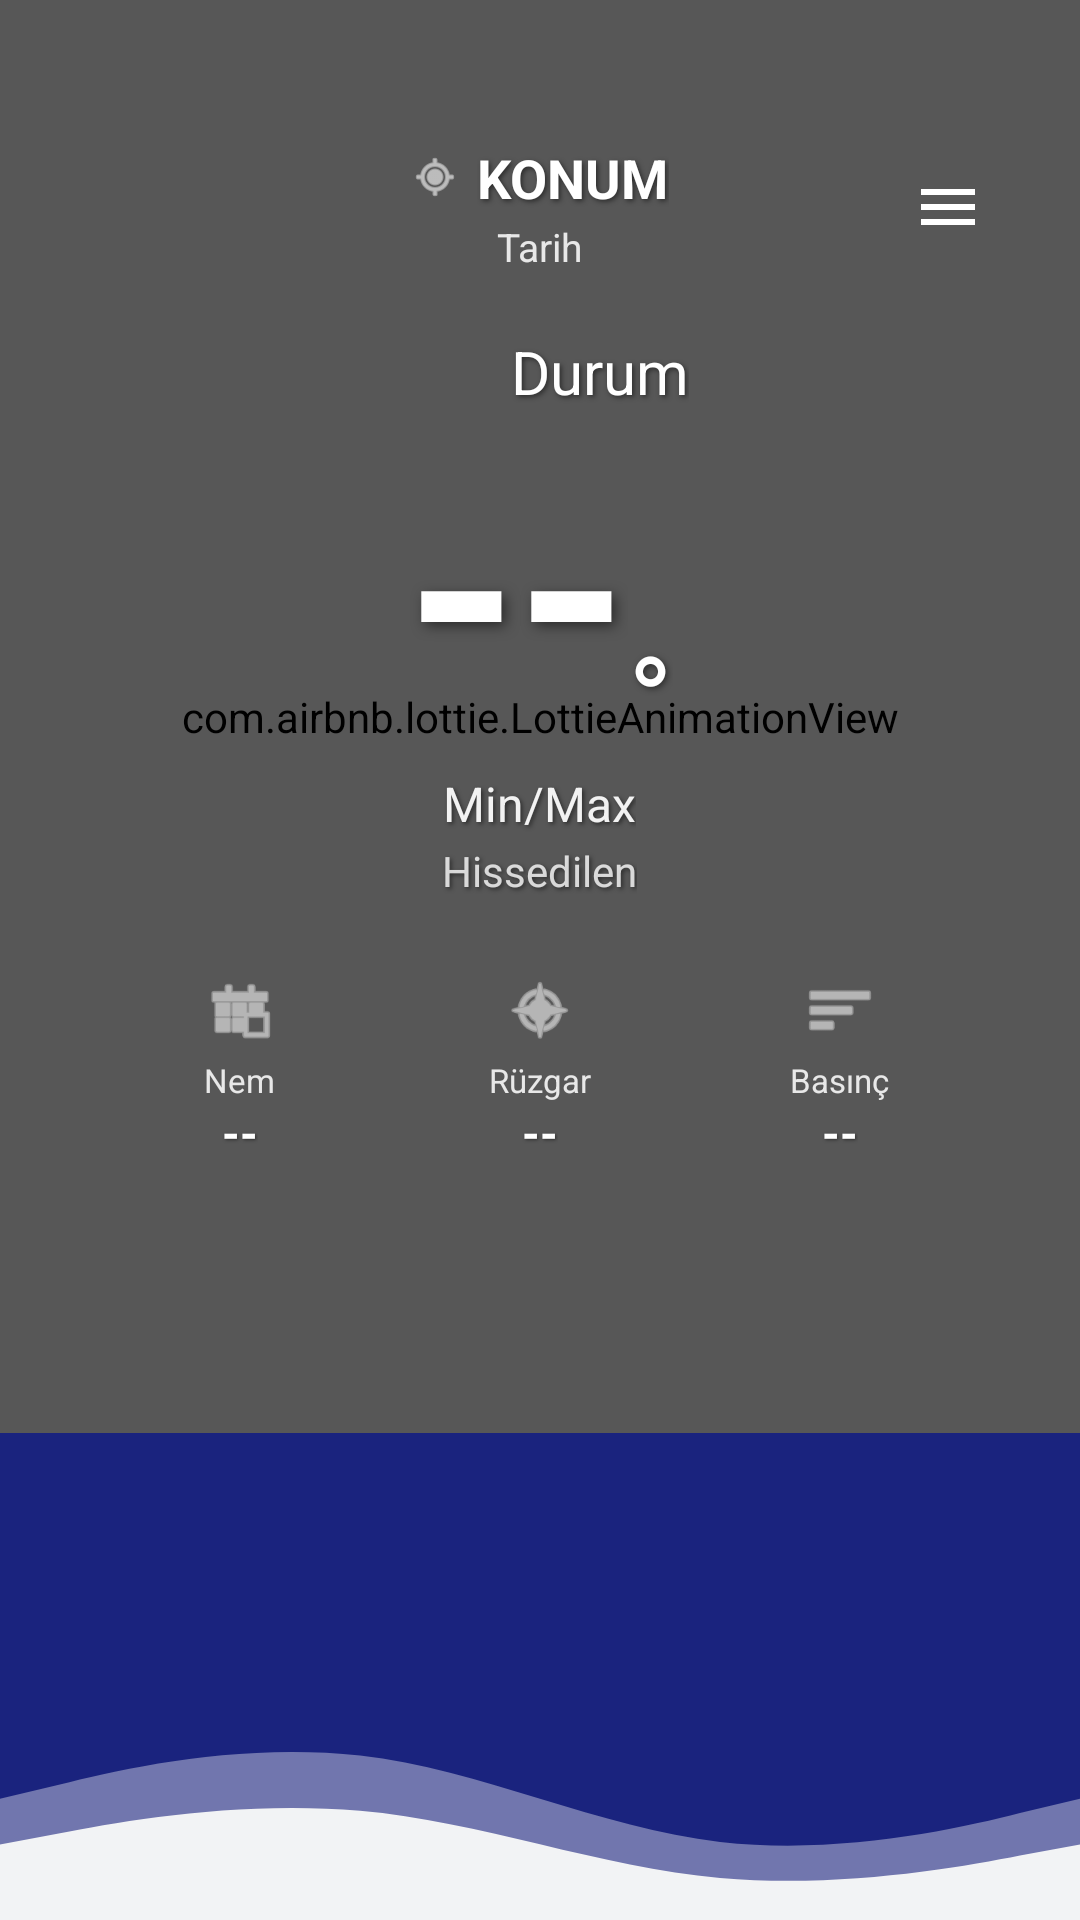

Named icons in this screenshot (1080 x 1920) and their centers, point (x, y):
compass: point (539, 1010)
hamburger: point (948, 207)
mylocation: point (435, 177)
sort by size: point (840, 1010)
today: point (240, 1011)
